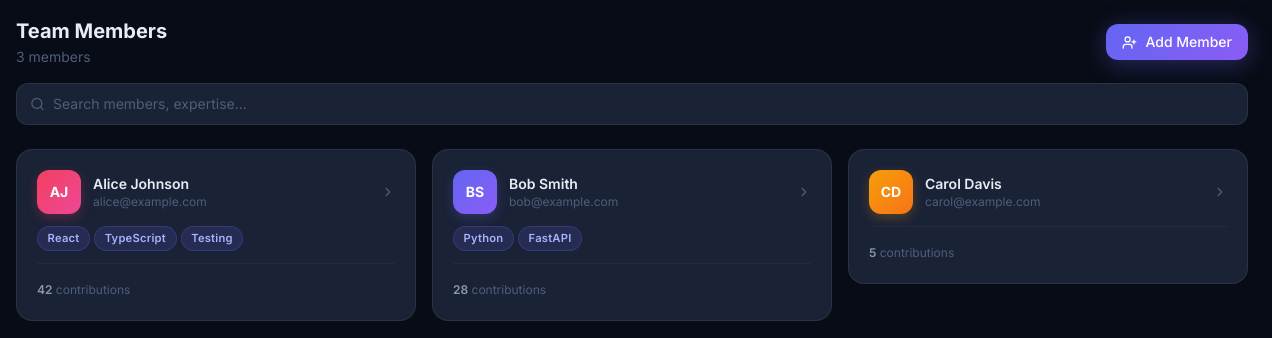
MemberList › filters members by search term
Expected: the text "Alice Johnson" is shown, [93,175,189,192]
Type "Alice" into the field with placeholder "Search members, expertise..." at point(632, 104), box [16,83,1248,125]
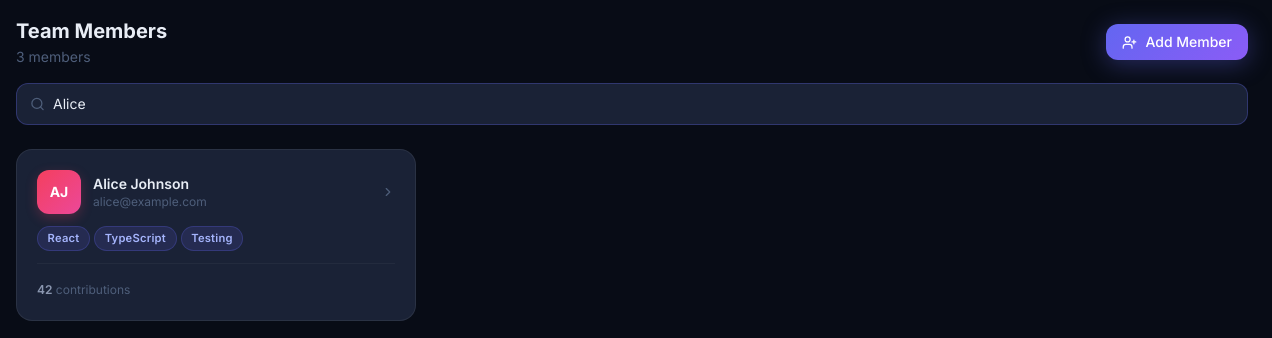
Expected: the text "Alice Johnson" is shown, [93,175,189,192]
Now the link "Bob Smith" is gone
Now the link "Carol Davis" is gone
